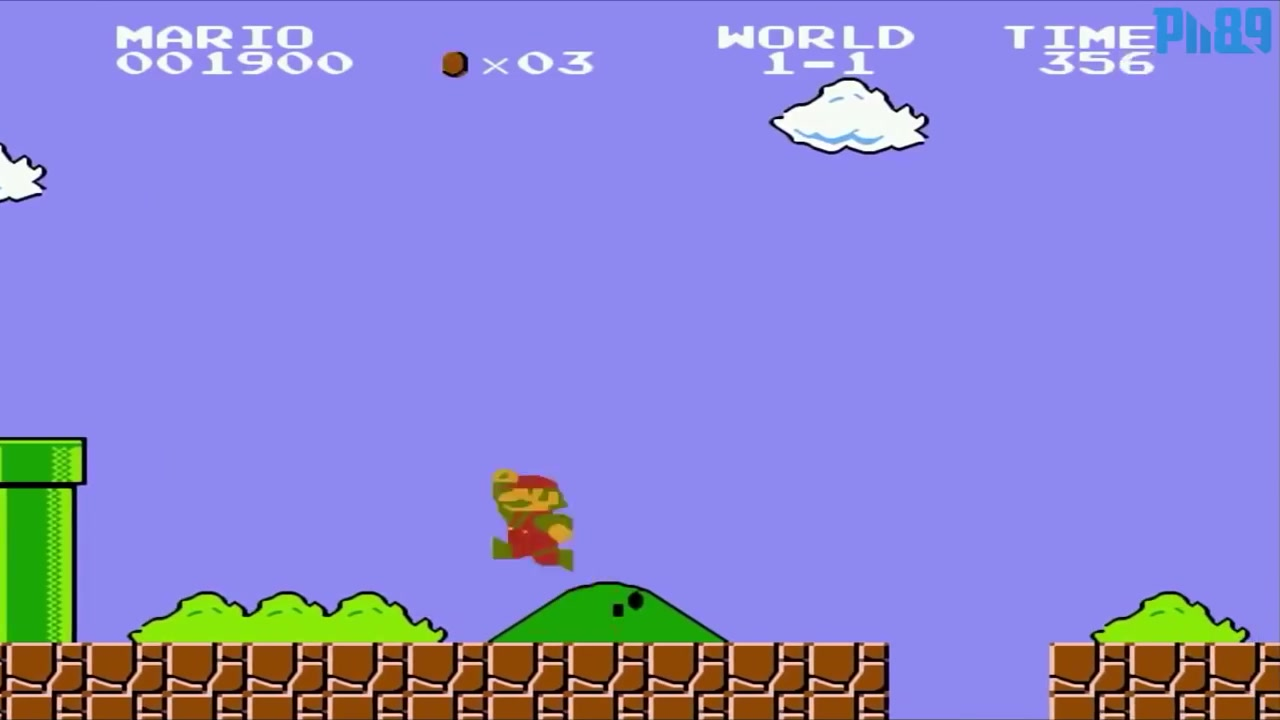mario: (481, 463, 581, 576)
